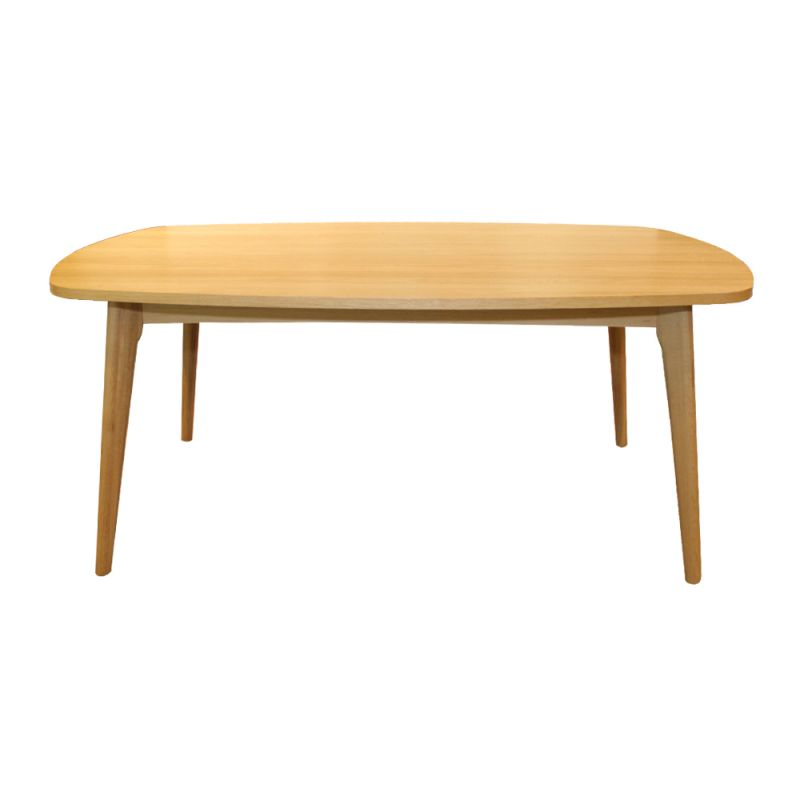Carving Table: (53, 219, 742, 592)
